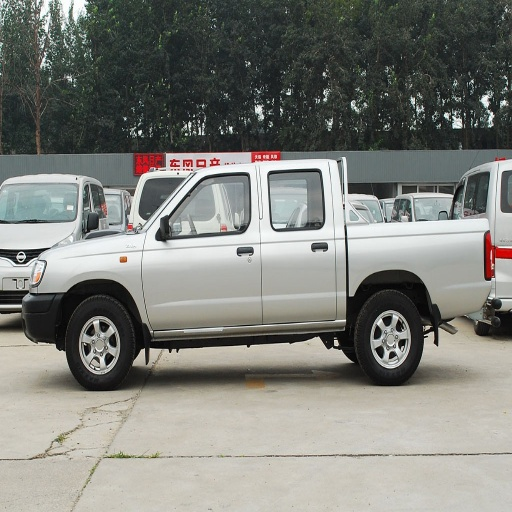back_glass: (3, 184, 67, 220)
back_left_door: (260, 167, 333, 320)
trunk: (322, 224, 493, 327)
